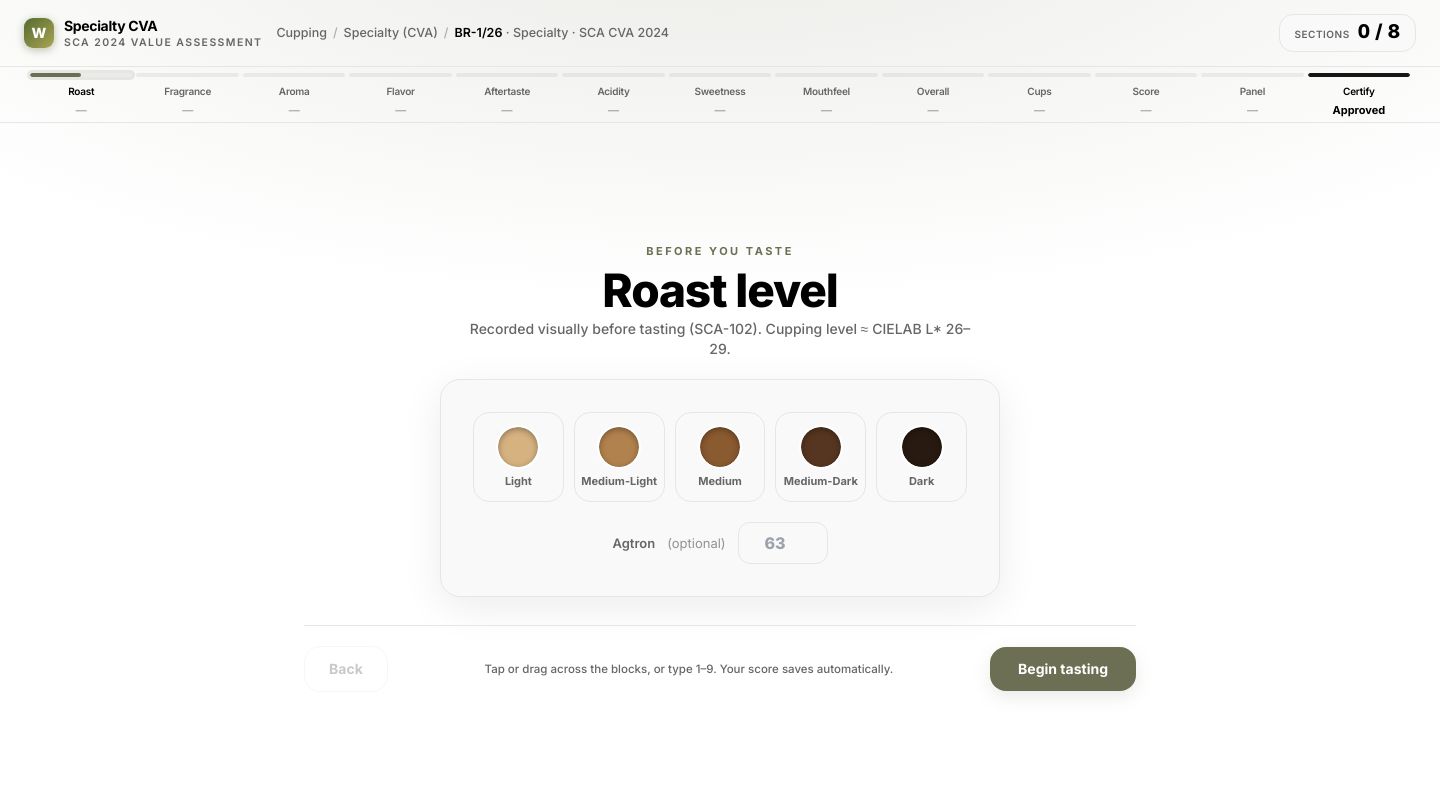
Scenario: CvaJourney leaves the journey once every lot is settled › a lot already approved before the journey opened offers its certificate, not Certify
Expected: the button "Sections 0 / 8" is shown, [1279,14,1416,52]
Click the button "Certify Approved": {"x": 1359, "y": 94} [1306,67,1412,122]
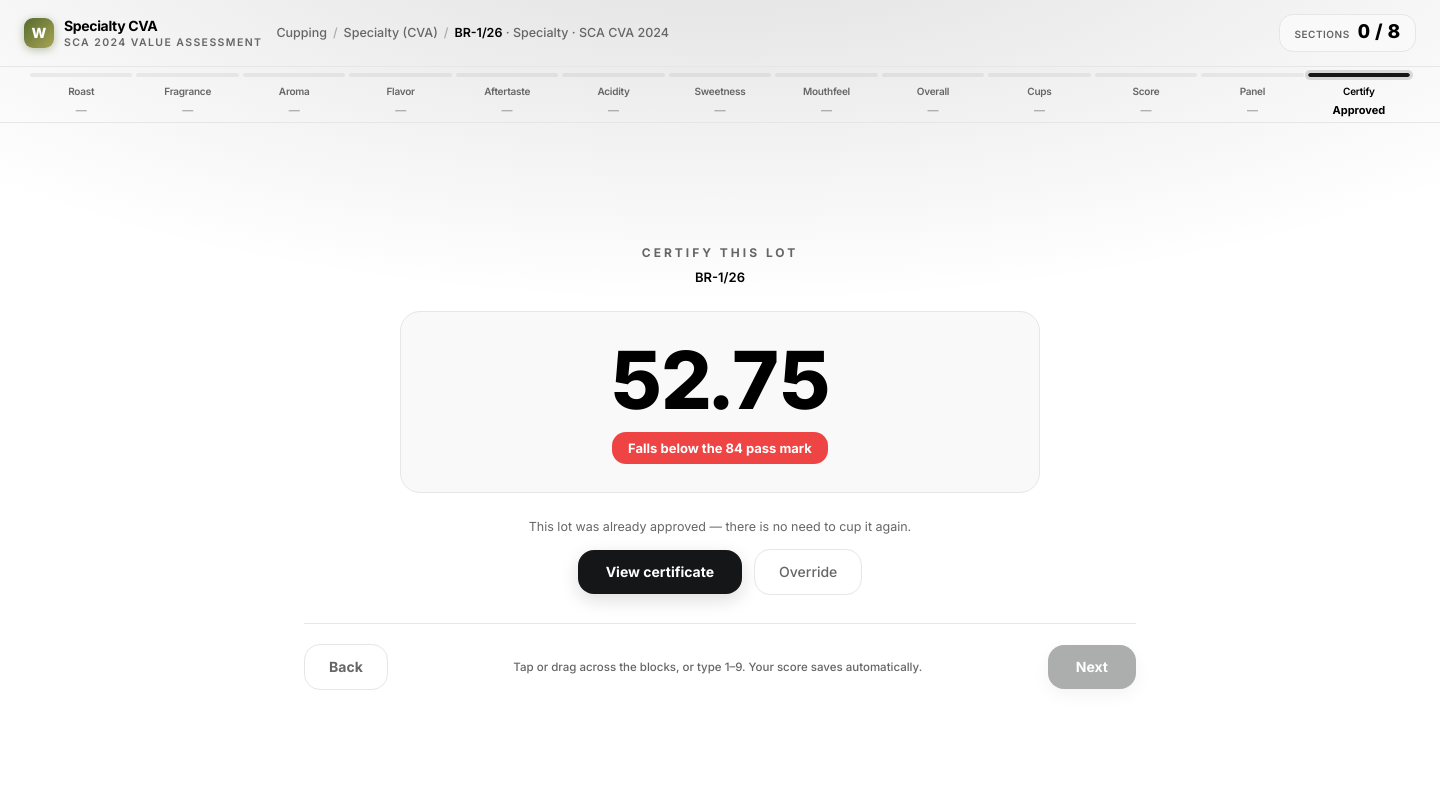
Expected: the text "already approved" is shown, [529,517,911,537]
